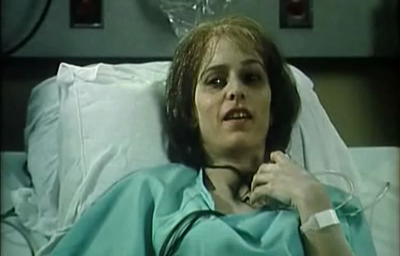face: (195, 51, 272, 153)
mcu: (1, 1, 400, 256)
person: (34, 14, 377, 256)
